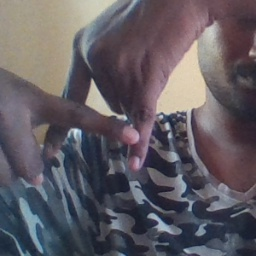H: (27, 44, 171, 182)
